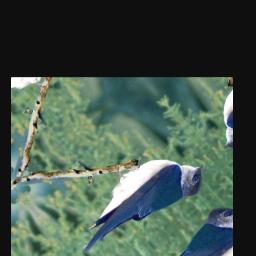Swallow: (51, 122, 217, 256)
